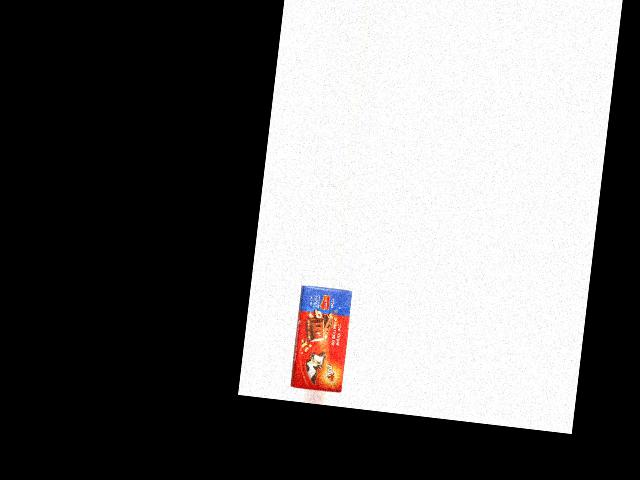chocolate: (289, 285, 352, 393)
